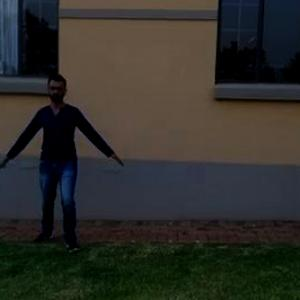land: (5, 76, 112, 239)
